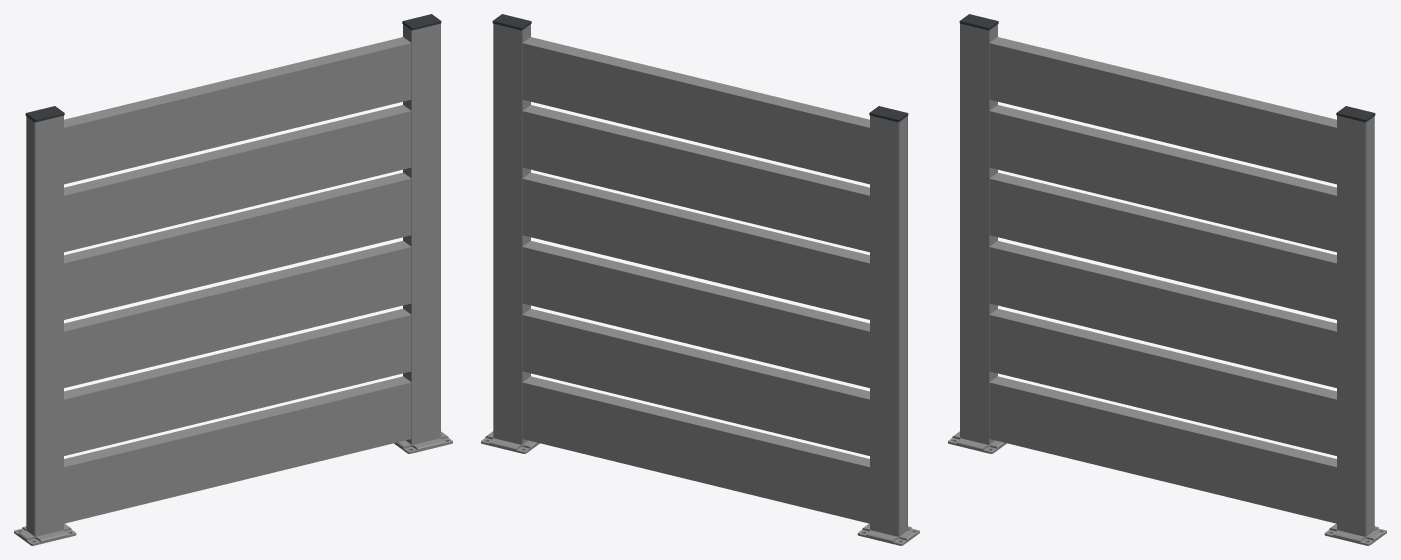
3 views of the same model, side by side, from view 1: azimuth 30°, elevation 25°; view 2: azimuth 150°, elevation 25°; view 3: azimuth 330°, elevation 25° (orthographic).
Visible parts, largest first — view 1: Rectangle075, Rectangle074, Rectangle076, base018, base019; view 2: Rectangle075, Rectangle074, Rectangle076, base018, base019; view 3: Rectangle075, Rectangle076, Rectangle074, base019, base018.
Part boxes in pixels (x1=…): Rectangle075: x1=64, y1=37, x2=411, y2=523; Rectangle074: x1=26, y1=115, x2=63, y2=536; Rectangle076: x1=403, y1=23, x2=440, y2=444; base018: x1=14, y1=523, x2=76, y2=545; base019: x1=394, y1=431, x2=452, y2=453; Rectangle075: x1=522, y1=37, x2=869, y2=523; Rectangle074: x1=870, y1=115, x2=907, y2=536; Rectangle076: x1=493, y1=23, x2=530, y2=444; base018: x1=857, y1=523, x2=919, y2=545; base019: x1=481, y1=431, x2=539, y2=453; Rectangle075: x1=989, y1=37, x2=1336, y2=523; Rectangle076: x1=1337, y1=115, x2=1374, y2=536; Rectangle074: x1=960, y1=23, x2=997, y2=444; base019: x1=1324, y1=523, x2=1386, y2=545; base018: x1=948, y1=431, x2=1006, y2=453.
Size of the model in its own units: 1171 by 1117 by 90.02.
2 materials, 1 textured.
